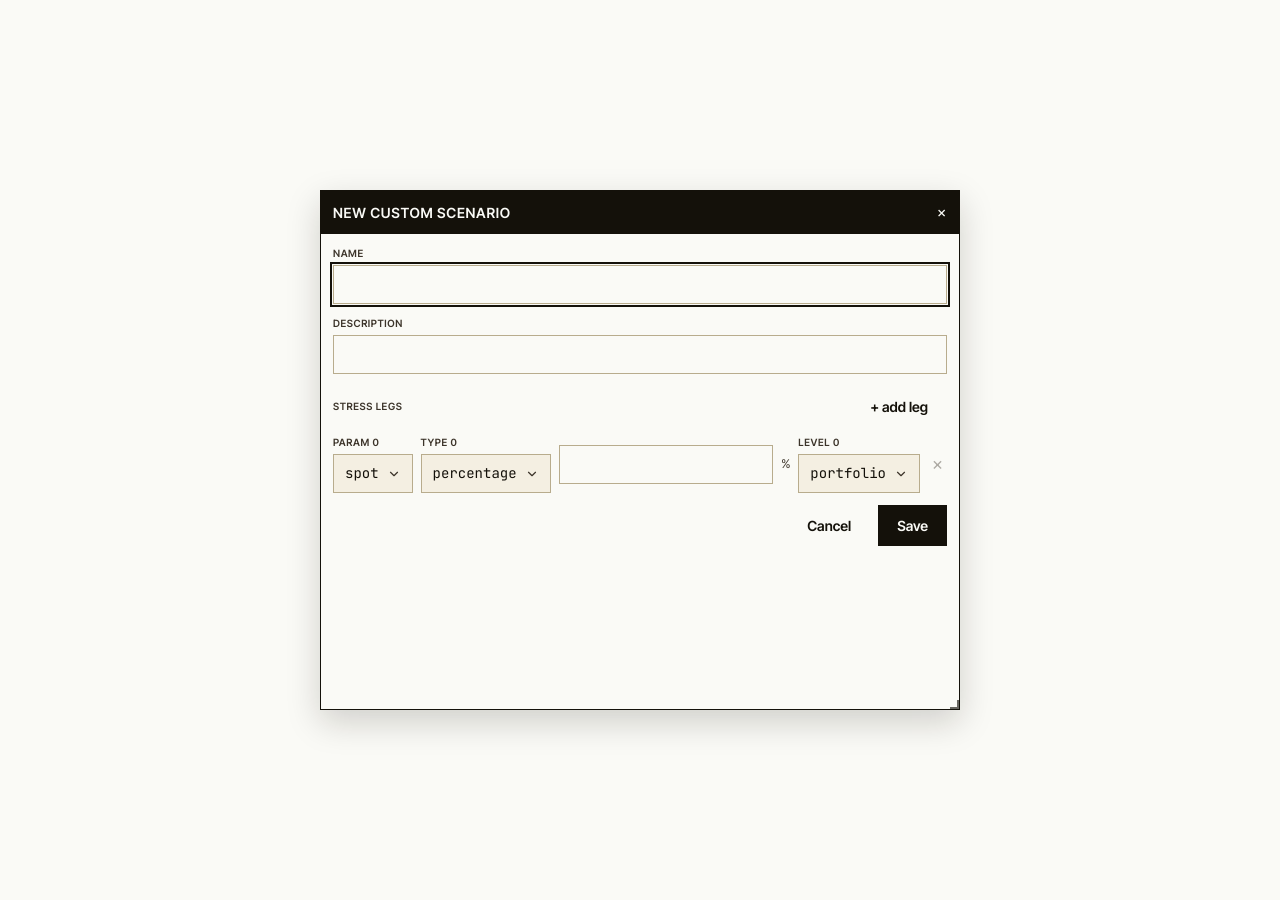
Test: rejects a duplicate name on create
This screenshot has width=1280, height=900.
Type "Taken" into the field named "scenario name" at (640, 284), box [333,265,947,304]
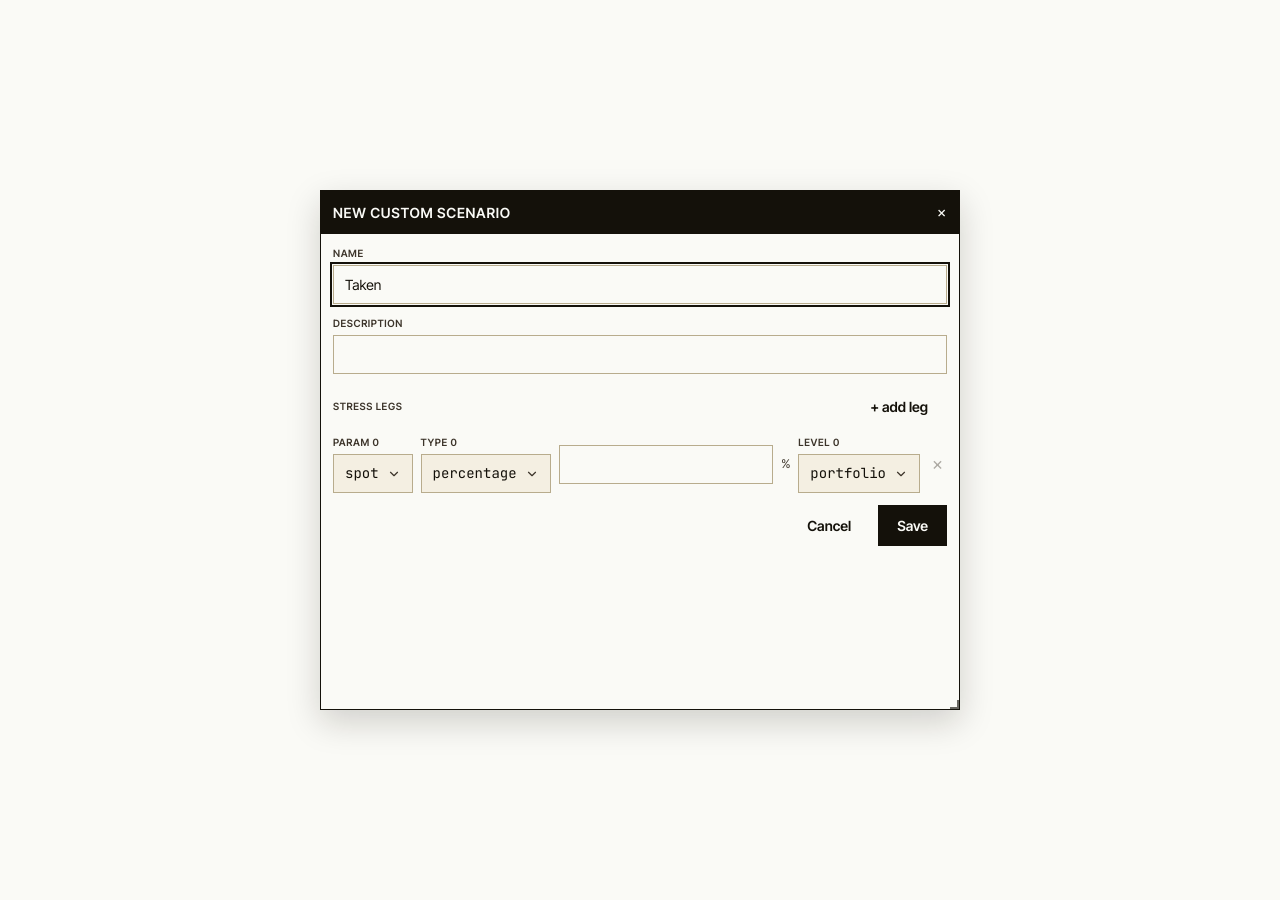
Type "-10" into the number field named "value 0" at (666, 464), box [559,444,773,484]
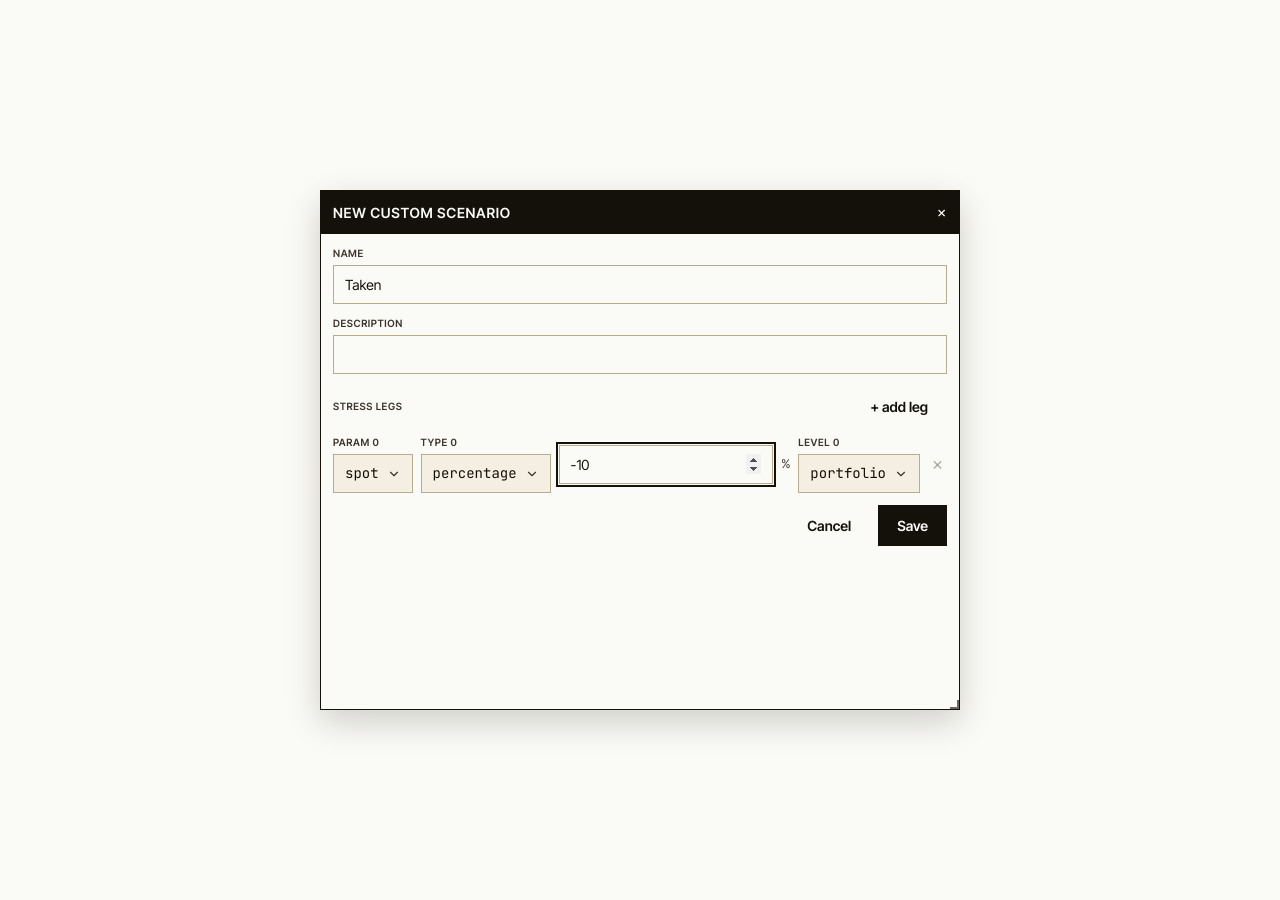
Click the button "Save" at (913, 526), box [878,505,947,546]
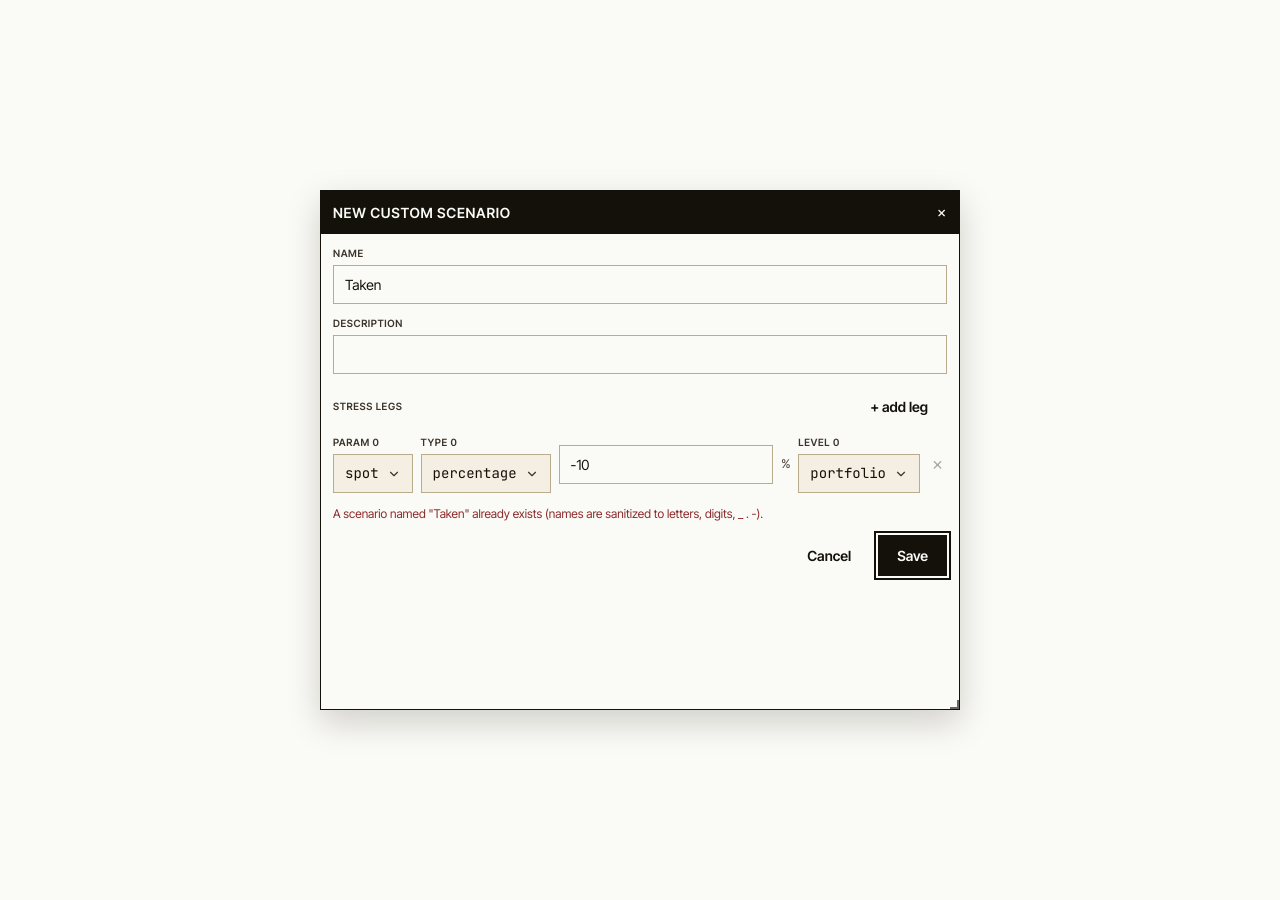
Expected: the message shows "already exists", [333,506,763,521]
